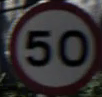Speed limit: (8, 4, 91, 86)
